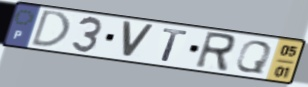3: (70, 16, 105, 54)
D: (28, 8, 72, 49)
Q: (233, 39, 275, 75)
R: (192, 30, 238, 74)
T: (159, 27, 190, 64)
V: (121, 19, 157, 60)
